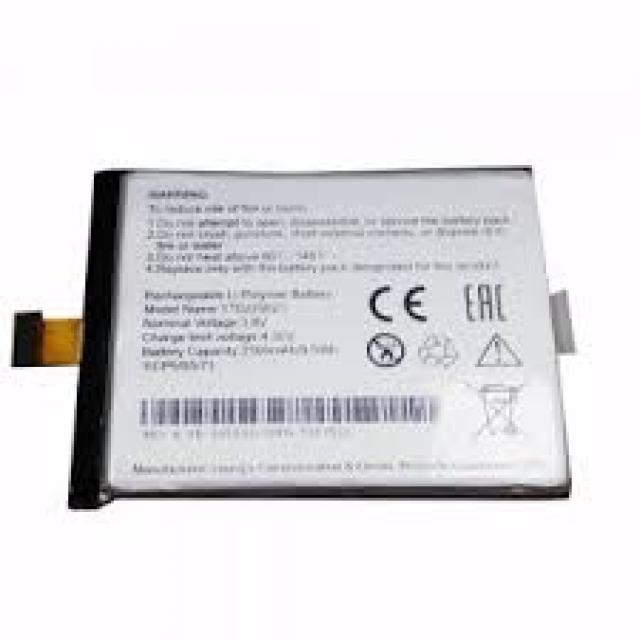non-organic waste: (11, 163, 571, 508)
